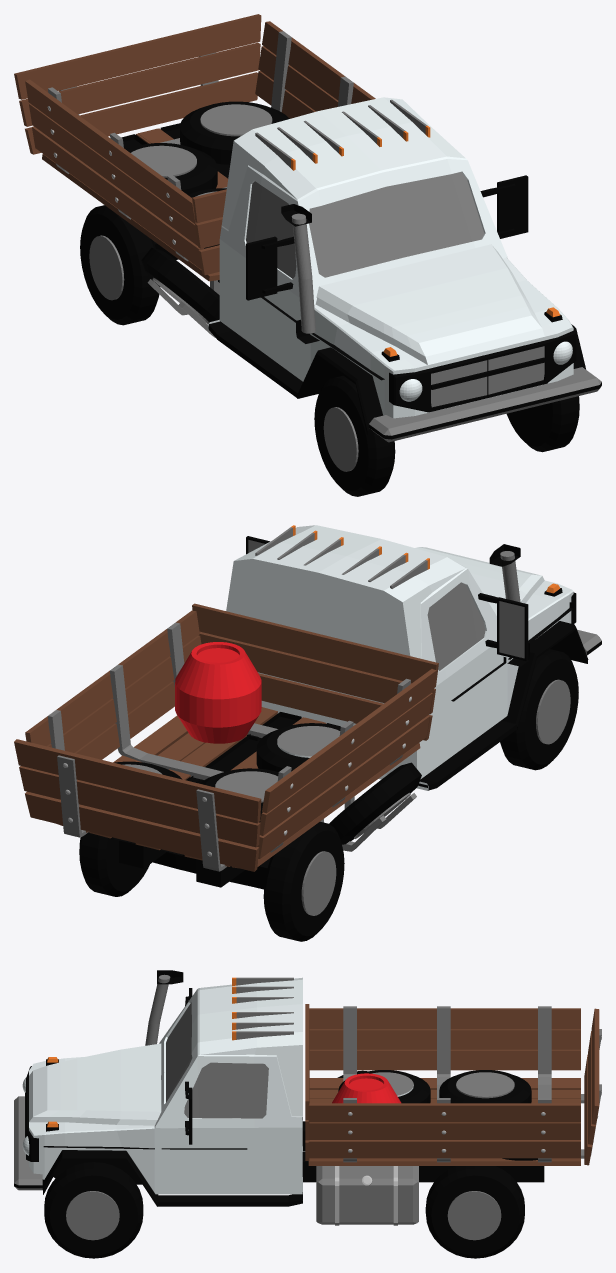
File: Авто №2.fbx
3 renders of one model, top to bottom at view 1: azimuth 30°, elevation 25°; view 2: azimuth 150°, elevation 25°; view 3: azimuth 270°, elevation 25°, orthographic. The views are drawn at different scales.
Parts seen in each view (by area): view 1: Cube.003, Cube, Cylinder, Cylinder.007, Cylinder.004, Cylinder.002, Cylinder.009, Cylinder.005, Cylinder.008, Cube.002; view 2: Cube, Cube.003, Cylinder, Cylinder.007, Cylinder.004, Cylinder.001, Cylinder.008, Cylinder.005, Cylinder.009, Cube.002; view 3: Cube.003, Cube, Cube.002, Cylinder.002, Cylinder.001, Cylinder, Cylinder.006, Cylinder.003, Cylinder.009.
Boxes of the visible parts, x1=… form: Cube.003: x1=208, y1=97, x2=601, y2=442; Cube: x1=14, y1=14, x2=528, y2=300; Cylinder: x1=126, y1=101, x2=289, y2=323; Cylinder.007: x1=80, y1=205, x2=159, y2=325; Cylinder.004: x1=314, y1=375, x2=395, y2=496; Cylinder.002: x1=506, y1=396, x2=579, y2=452; Cylinder.009: x1=281, y1=204, x2=319, y2=343; Cylinder.005: x1=323, y1=407, x2=358, y2=471; Cylinder.008: x1=89, y1=235, x2=124, y2=300; Cube.002: x1=147, y1=279, x2=219, y2=337; Cube: x1=14, y1=525, x2=528, y2=889; Cube.003: x1=226, y1=525, x2=601, y2=790; Cylinder: x1=114, y1=642, x2=421, y2=844; Cylinder.007: x1=263, y1=821, x2=344, y2=941; Cylinder.004: x1=500, y1=649, x2=578, y2=770; Cylinder.001: x1=79, y1=832, x2=149, y2=896; Cylinder.008: x1=301, y1=851, x2=336, y2=915; Cylinder.005: x1=536, y1=679, x2=570, y2=744; Cylinder.009: x1=489, y1=544, x2=529, y2=666; Cube.002: x1=320, y1=793, x2=416, y2=851; Cube.003: x1=14, y1=977, x2=302, y2=1206; Cube: x1=53, y1=977, x2=601, y2=1184; Cube.002: x1=316, y1=1166, x2=418, y2=1225; Cylinder.002: x1=44, y1=1162, x2=143, y2=1258; Cylinder.001: x1=425, y1=1166, x2=524, y2=1258; Cylinder: x1=332, y1=1070, x2=537, y2=1160; Cylinder.006: x1=66, y1=1191, x2=119, y2=1240; Cylinder.003: x1=447, y1=1191, x2=501, y2=1240; Cylinder.009: x1=145, y1=970, x2=183, y2=1045.
Size of the model in its own units: 49.19 by 44.14 by 110.
